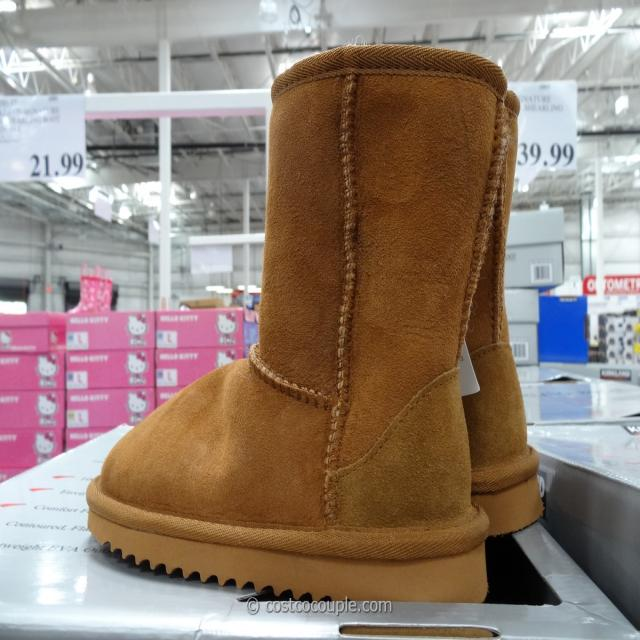boot: (77, 38, 564, 612)
